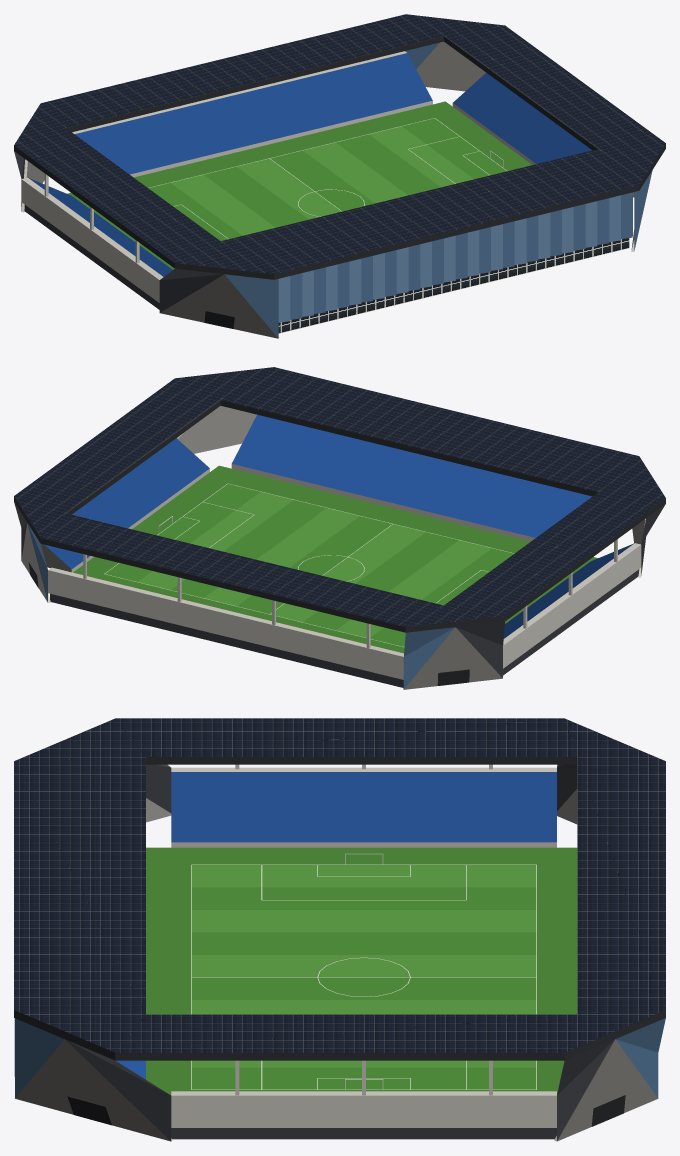
File: stade_tuiliere.glb
3 renders of one model, top to bottom at view 1: azimuth 30°, elevation 25°; view 2: azimuth 150°, elevation 25°; view 3: azimuth 270°, elevation 25°, orthographic. The views are drawn at different scales.
Visible parts, largest first — view 1: stade_tuiliere; view 2: stade_tuiliere; view 3: stade_tuiliere.
Boxes of the visible parts, x1=… form: stade_tuiliere: x1=14, y1=14, x2=665, y2=338; stade_tuiliere: x1=14, y1=367, x2=665, y2=689; stade_tuiliere: x1=14, y1=718, x2=665, y2=1141.
Bounding box in the file's own units: 156 × 20 × 128.
Materials: 3 (3 with a texture image).
